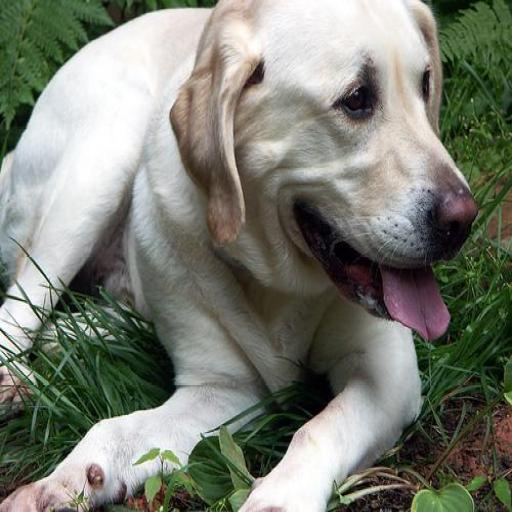dog_face: (185, 1, 466, 336)
